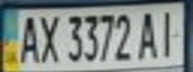2: (115, 9, 136, 61)
3: (63, 11, 84, 63), (81, 10, 100, 62)
7: (97, 10, 118, 62)
A: (15, 11, 42, 64), (136, 7, 163, 60)
I: (154, 6, 184, 58)
X: (36, 10, 60, 64)
